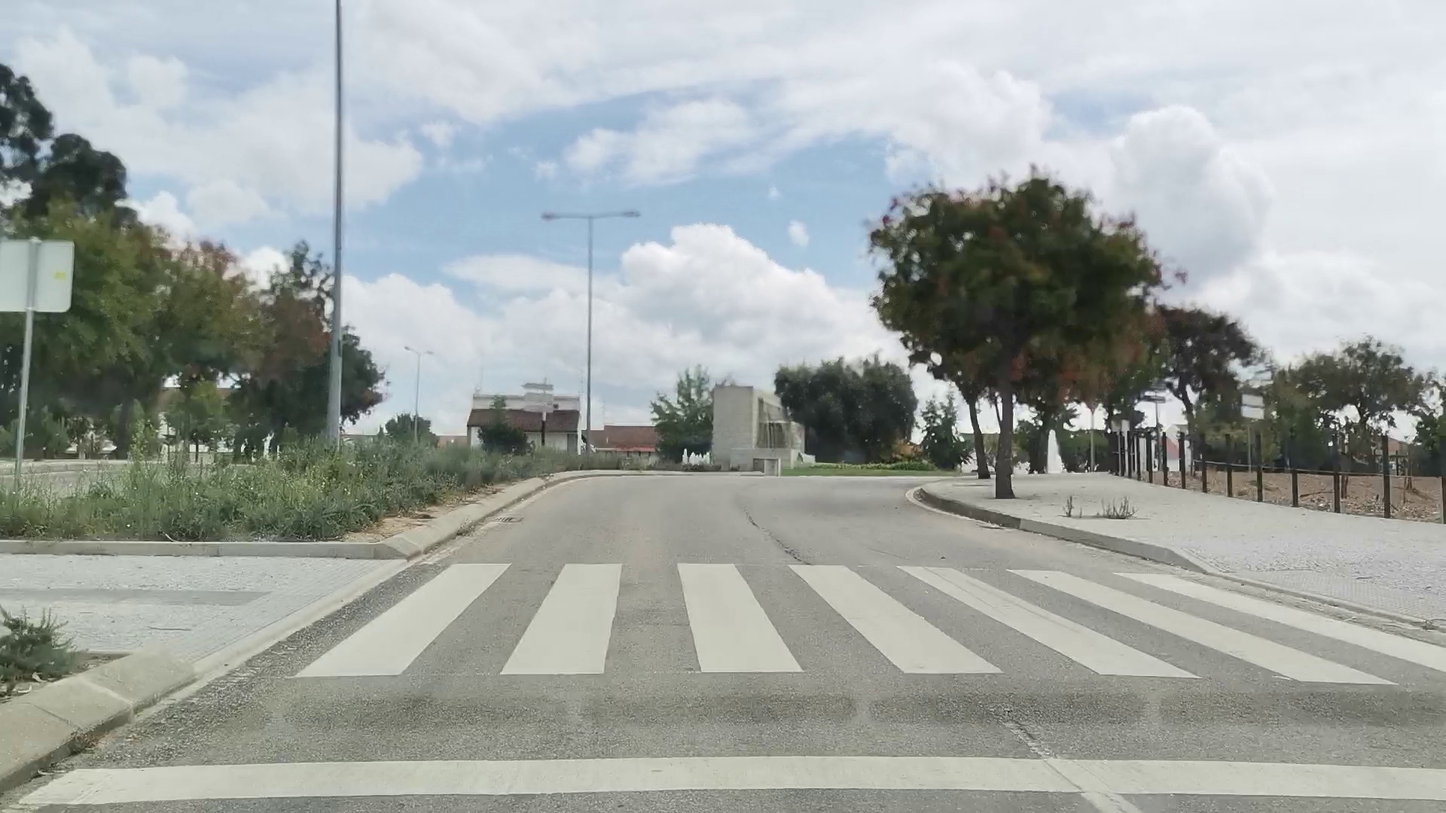Stairs: (294, 558, 1446, 683)
